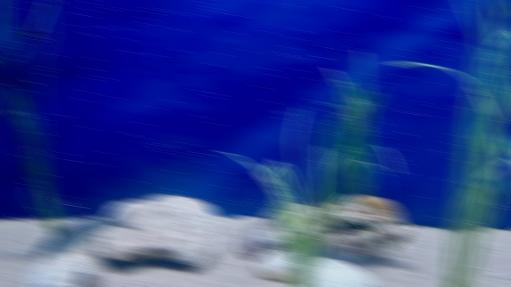Fish: (32, 205, 137, 258)
